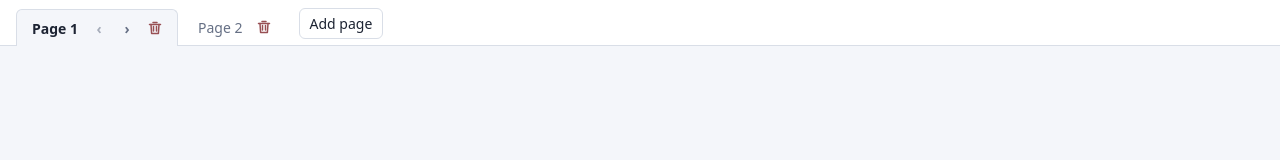
Test: PageTabs › moves the open page among the tabs with the buttons on its tab
Expected: the button named "Move Page 1 left" is disabled, [87, 16, 111, 40]
What coordinates should you click on to do the following:
click the button named "Move Page 1 right"
I would click on:
 (127, 28)
Its box is [115, 16, 139, 40].
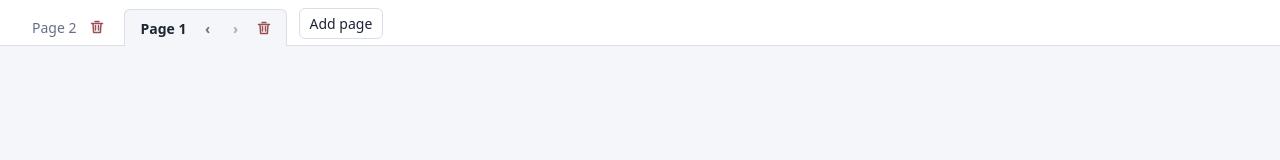
Expected: the button named "Move Page 1 right" is disabled, [224, 16, 248, 40]
